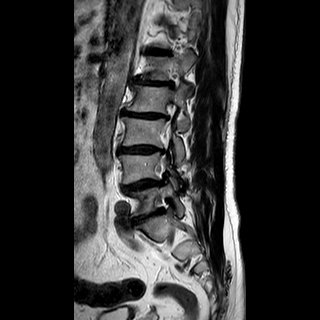LFS0: (147, 189, 175, 218)
